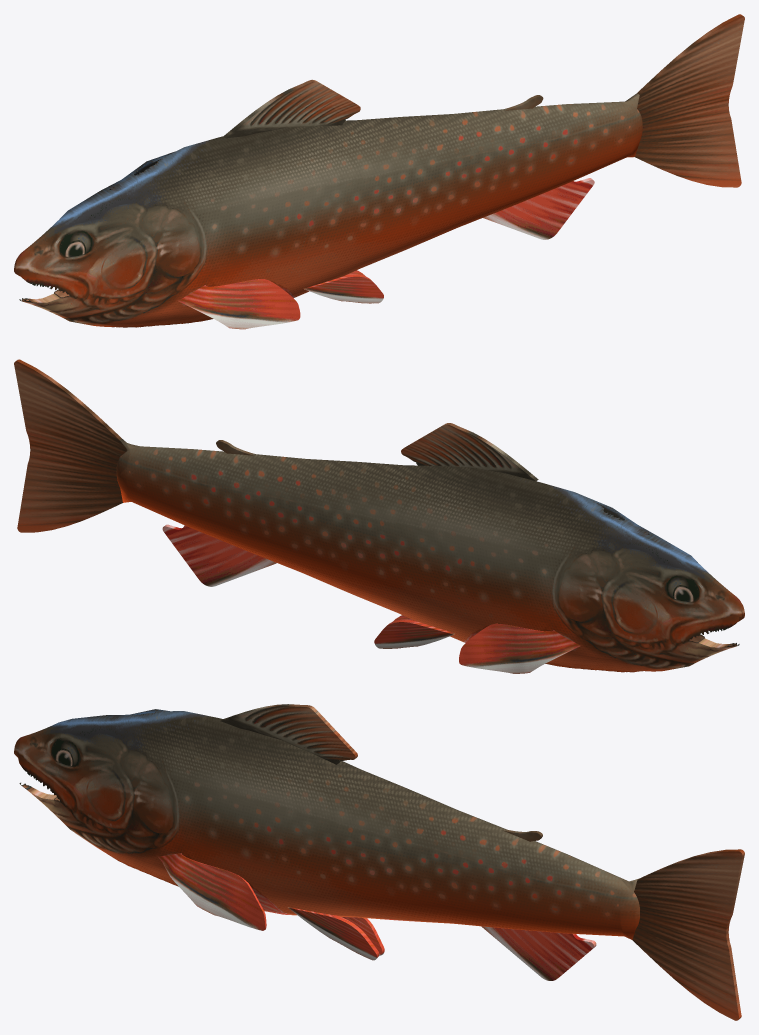
Rendered from Arctic char.fbx.
The picture shows the model from 3 angles, top to bottom: view 1: azimuth 30°, elevation 25°; view 2: azimuth 150°, elevation 25°; view 3: azimuth 330°, elevation 25°; orthographic projection.
Visible parts, largest first — view 1: Line016, Line002, Line017, Line005, Line009, Line019; view 2: Line016, Line002, Line018, Line005, Line009, Line014; view 3: Line016, Line002, Line017, Line005, Line009, Line019.
Part boxes in pixels (x1,y1,x2,y2): Line016: [14, 93, 642, 327]; Line002: [635, 14, 744, 187]; Line017: [178, 279, 300, 329]; Line005: [223, 79, 360, 138]; Line009: [483, 178, 594, 239]; Line019: [304, 274, 383, 303]; Line016: [116, 438, 744, 672]; Line002: [14, 359, 126, 532]; Line018: [459, 623, 580, 673]; Line005: [401, 423, 538, 481]; Line009: [162, 524, 276, 586]; Line014: [374, 619, 454, 648]; Line016: [14, 709, 639, 939]; Line002: [632, 849, 744, 1020]; Line017: [158, 853, 266, 930]; Line005: [220, 704, 357, 764]; Line009: [481, 926, 596, 980]; Line019: [288, 907, 379, 960].
Size of the model in its own units: 1019 by 316 by 85.02.
4 materials, 4 textured.
